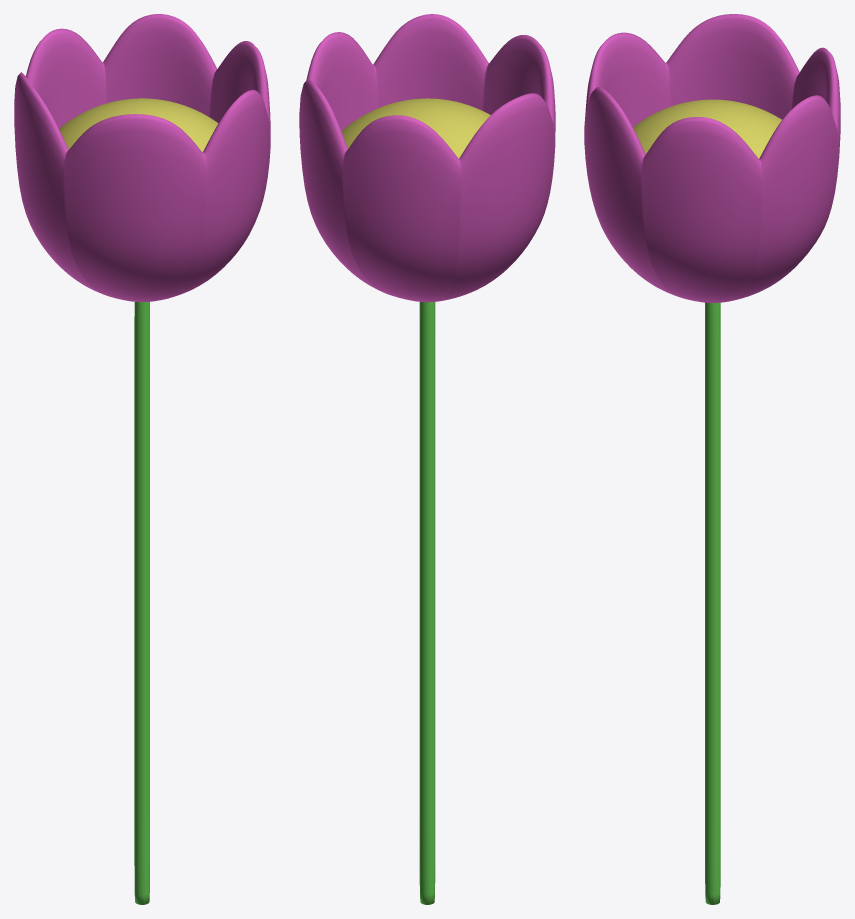
Rendered from LiveFlower.fbx.
3 views of the same model, side by side, from view 1: azimuth 30°, elevation 25°; view 2: azimuth 150°, elevation 25°; view 3: azimuth 270°, elevation 25° (orthographic).
Visible parts, largest first — view 1: Sphere; view 2: Sphere; view 3: Sphere.
Part boxes in pixels (x1,y1,x2,y2): Sphere: (14, 14, 270, 904); Sphere: (299, 14, 555, 904); Sphere: (584, 14, 840, 904).
Bounding box in the file's own units: 195 × 706 × 196.
